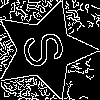S: (19, 25, 76, 71)
